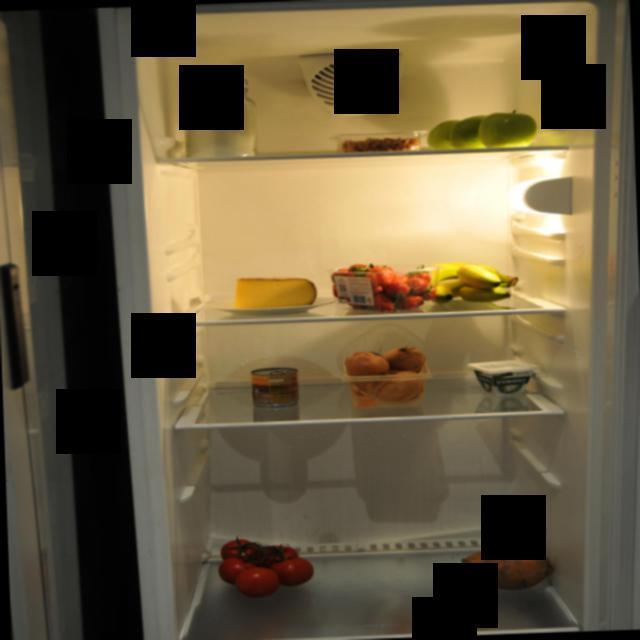apple: (421, 104, 544, 150)
banana: (426, 260, 524, 305)
cheese: (230, 273, 320, 314)
corn: (248, 364, 306, 408)
goat_cheese: (465, 357, 541, 397)
onion: (341, 344, 428, 404)
shrimp: (338, 129, 427, 154)
strawberries: (330, 260, 440, 312)
sugar: (182, 69, 260, 163)
sweet_potato: (458, 536, 562, 596)
tomato: (213, 532, 320, 600)
